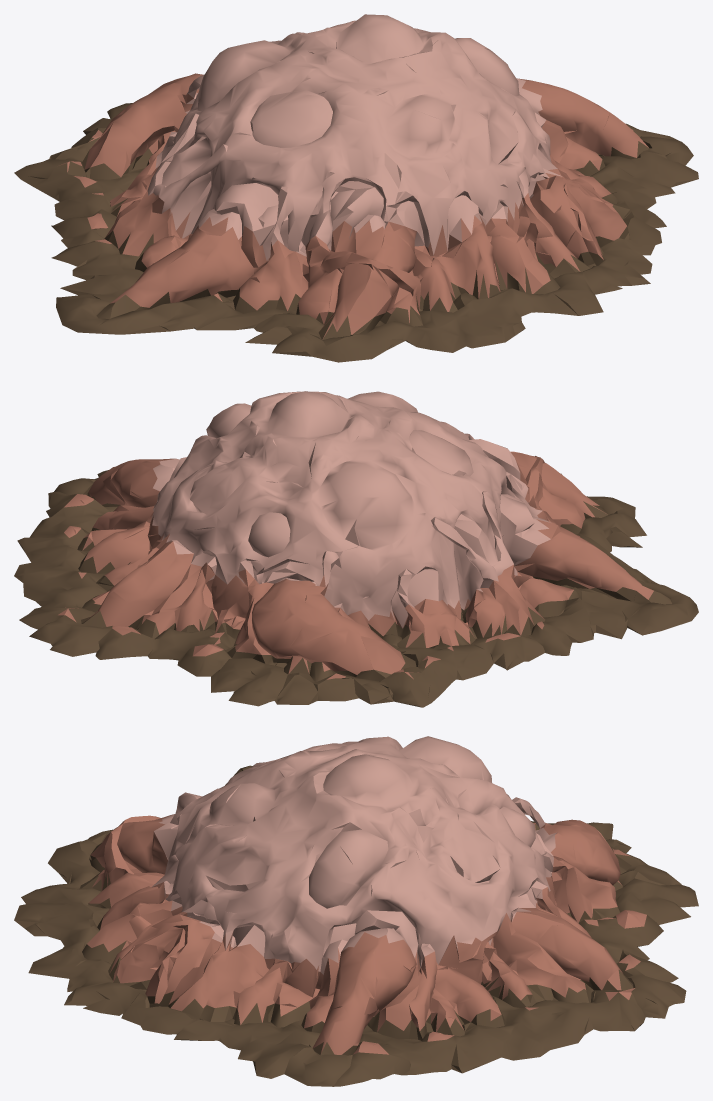
Rendered from biter-spawner.glb.
The picture shows the model from 3 angles, top to bottom: view 1: azimuth 30°, elevation 25°; view 2: azimuth 150°, elevation 25°; view 3: azimuth 270°, elevation 25°; orthographic projection. The views are drawn at different scales.
Visible parts, largest first — view 1: body; view 2: body; view 3: body.
Boxes of the visible parts, x1=… form: body: x1=14, y1=14, x2=698, y2=362; body: x1=14, y1=391, x2=698, y2=707; body: x1=14, y1=736, x2=698, y2=1086.
Size of the model in its own units: 6.63 by 1.81 by 5.99.
